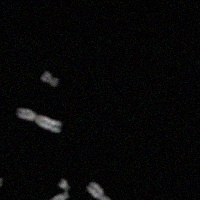chromosome: (16, 107, 61, 134), (87, 181, 112, 200), (41, 72, 59, 86), (49, 192, 69, 200), (58, 180, 69, 191), (0, 174, 2, 186)
